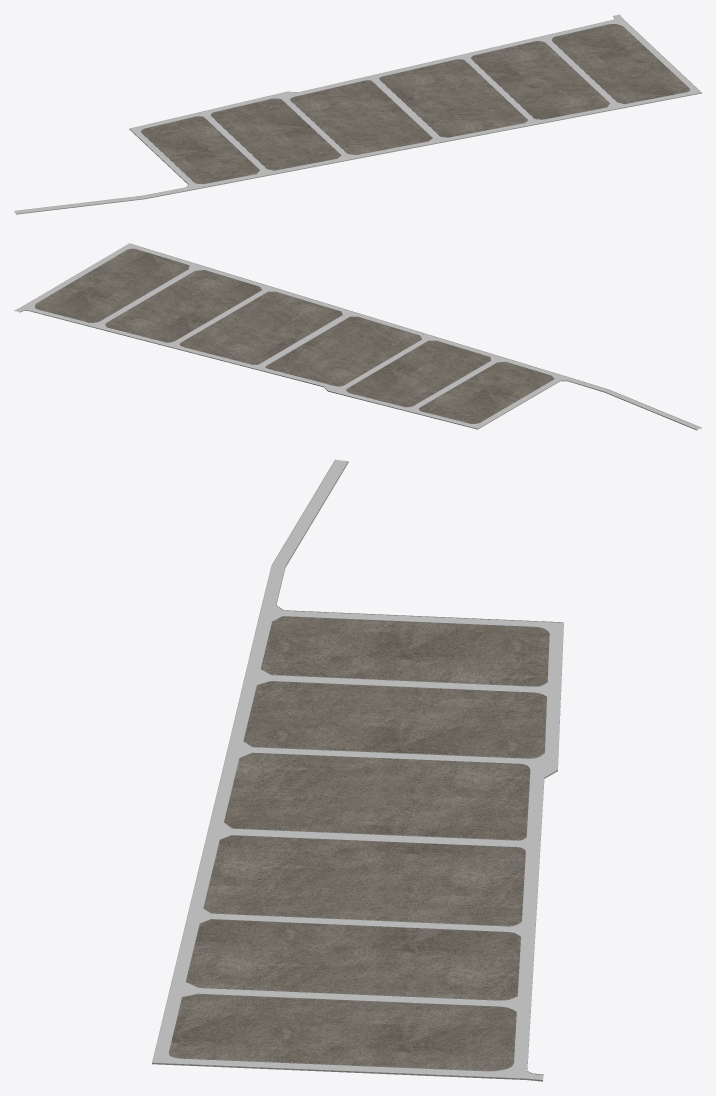
File: road_p10_01.fbx
The picture shows the model from 3 angles, top to bottom: view 1: azimuth 30°, elevation 25°; view 2: azimuth 150°, elevation 25°; view 3: azimuth 270°, elevation 25°; orthographic projection. The views are drawn at different scales.
Visible parts, largest first — view 1: road_p10_01; view 2: road_p10_01; view 3: road_p10_01.
Part boxes in pixels (x1,y1,x2,y2): road_p10_01: (14,14,701,214); road_p10_01: (14,243,701,430); road_p10_01: (152,459,563,1081).
Size of the model in its own units: 64931 by 70 by 18209.
